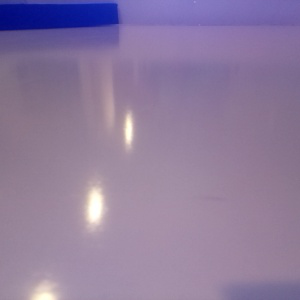zone: (1, 3, 118, 31)
